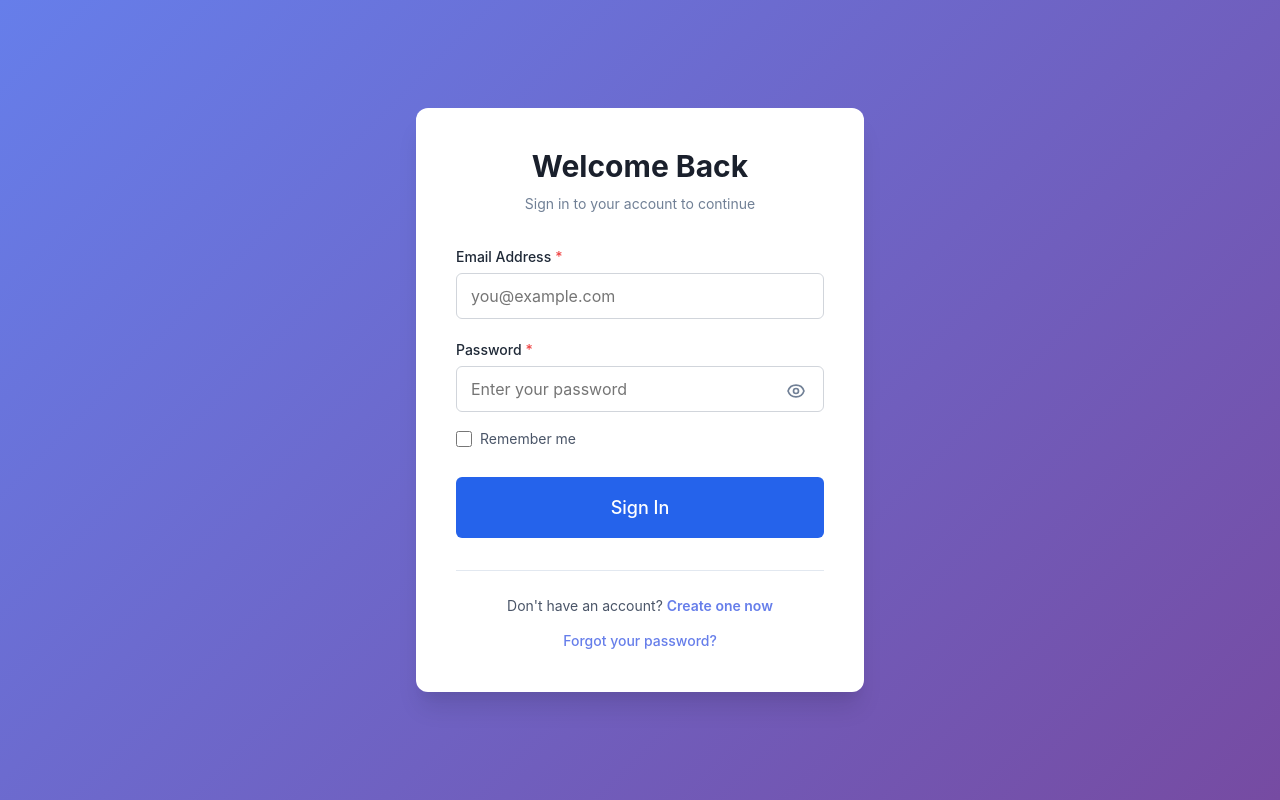
Test: Login Page › displays error for invalid email format
// Type and blur to trigger validation
Type "invalid-email" into the field labelled "Email Address *". click: x=640, y=296
box: [456, 273, 824, 319]
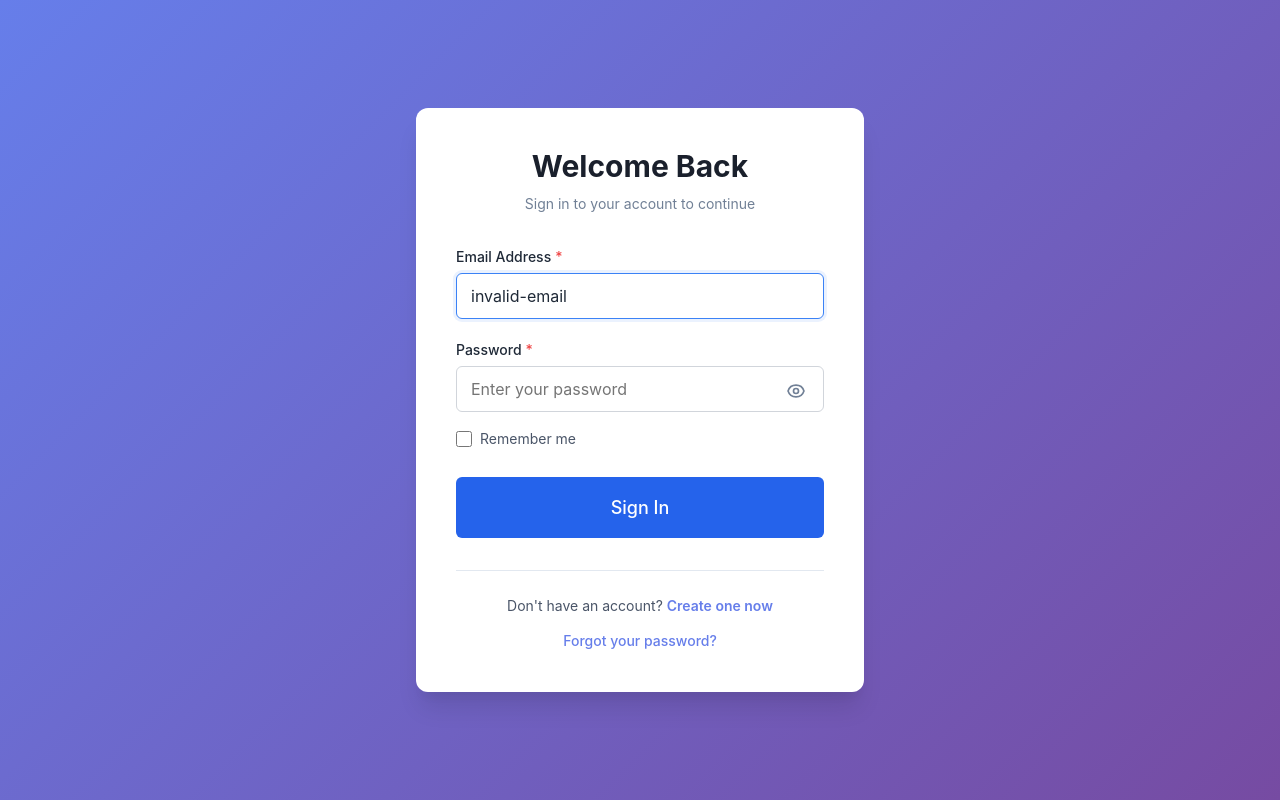
Press Tab
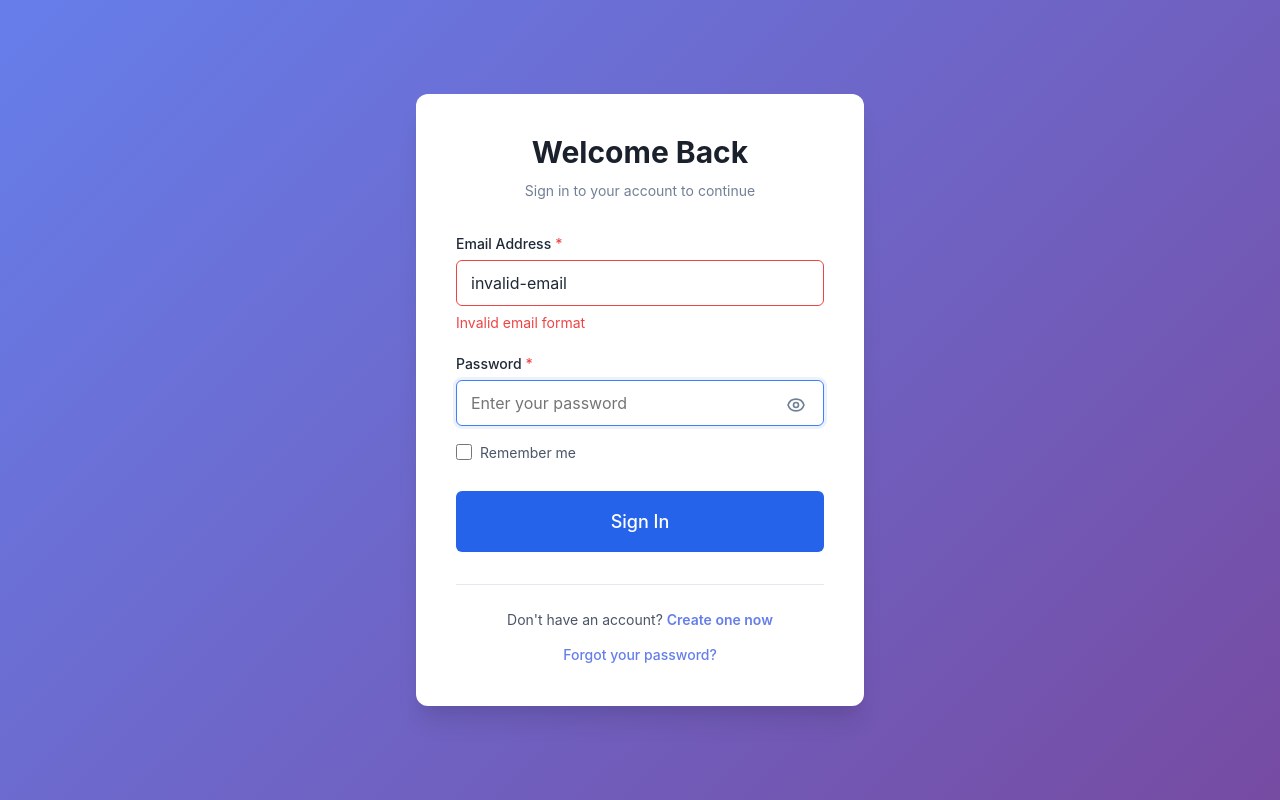
Expected: the text "Invalid email format" is shown, [456, 314, 585, 331]
